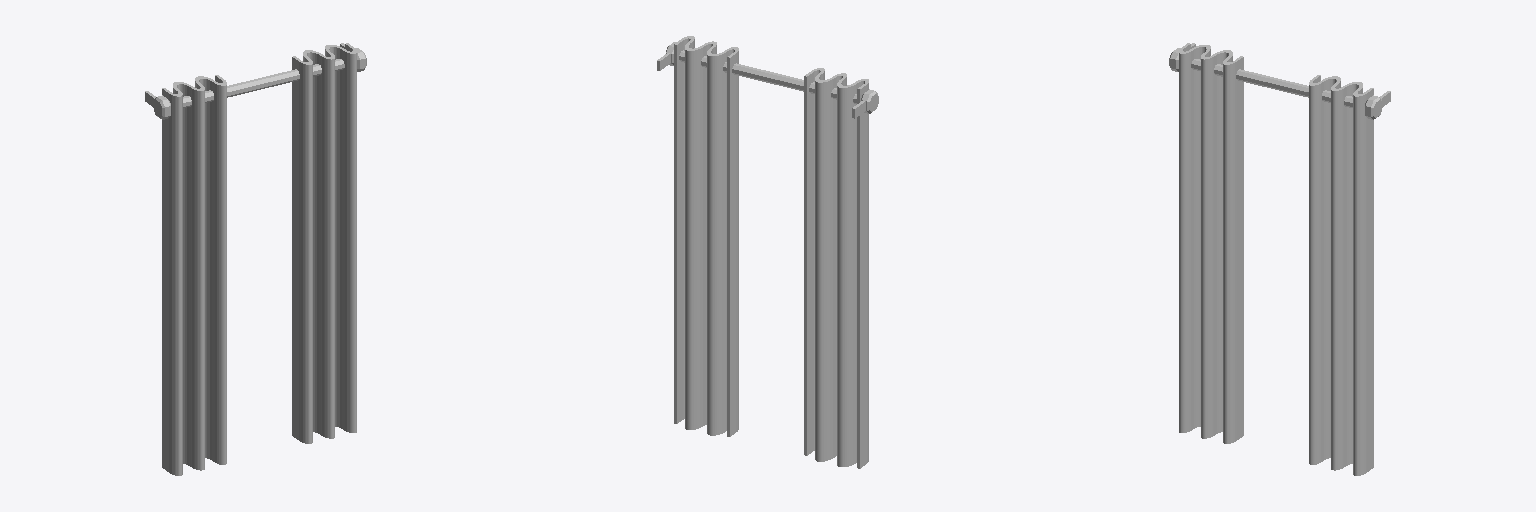
Rendered from Prop_Curtains_Single.obj.
The picture shows the model from 3 angles: view 1: azimuth 30°, elevation 25°; view 2: azimuth 150°, elevation 25°; view 3: azimuth 330°, elevation 25°; orthographic projection.
Parts seen in each view (by area): view 1: object2, object3, object1; view 2: object2, object3, object1; view 3: object3, object2, object1.
Boxes of the visible parts, x1=… form: object2: x1=292, y1=43, x2=356, y2=443; object3: x1=162, y1=75, x2=226, y2=475; object1: x1=145, y1=43, x2=366, y2=119; object2: x1=674, y1=36, x2=738, y2=436; object3: x1=804, y1=68, x2=868, y2=468; object1: x1=657, y1=42, x2=878, y2=118; object3: x1=1179, y1=43, x2=1243, y2=443; object2: x1=1309, y1=75, x2=1373, y2=475; object1: x1=1169, y1=43, x2=1390, y2=119.
Size of the model in its own units: 1.1 by 1.95 by 0.225.